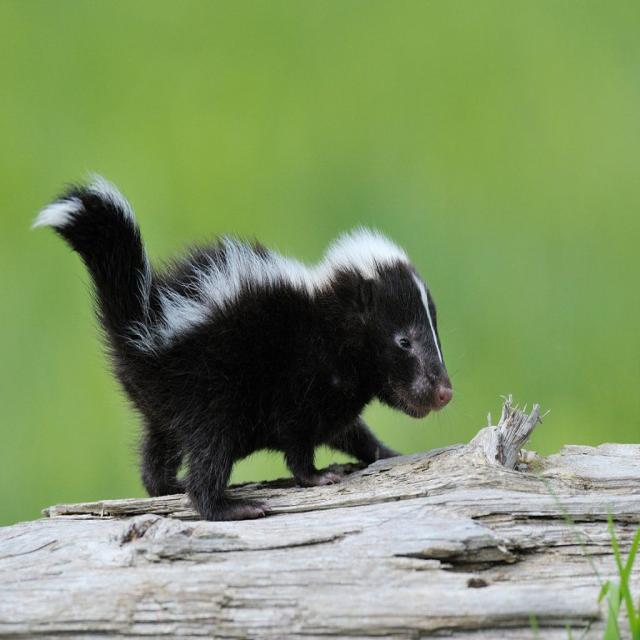Skunk: (32, 139, 457, 528)
